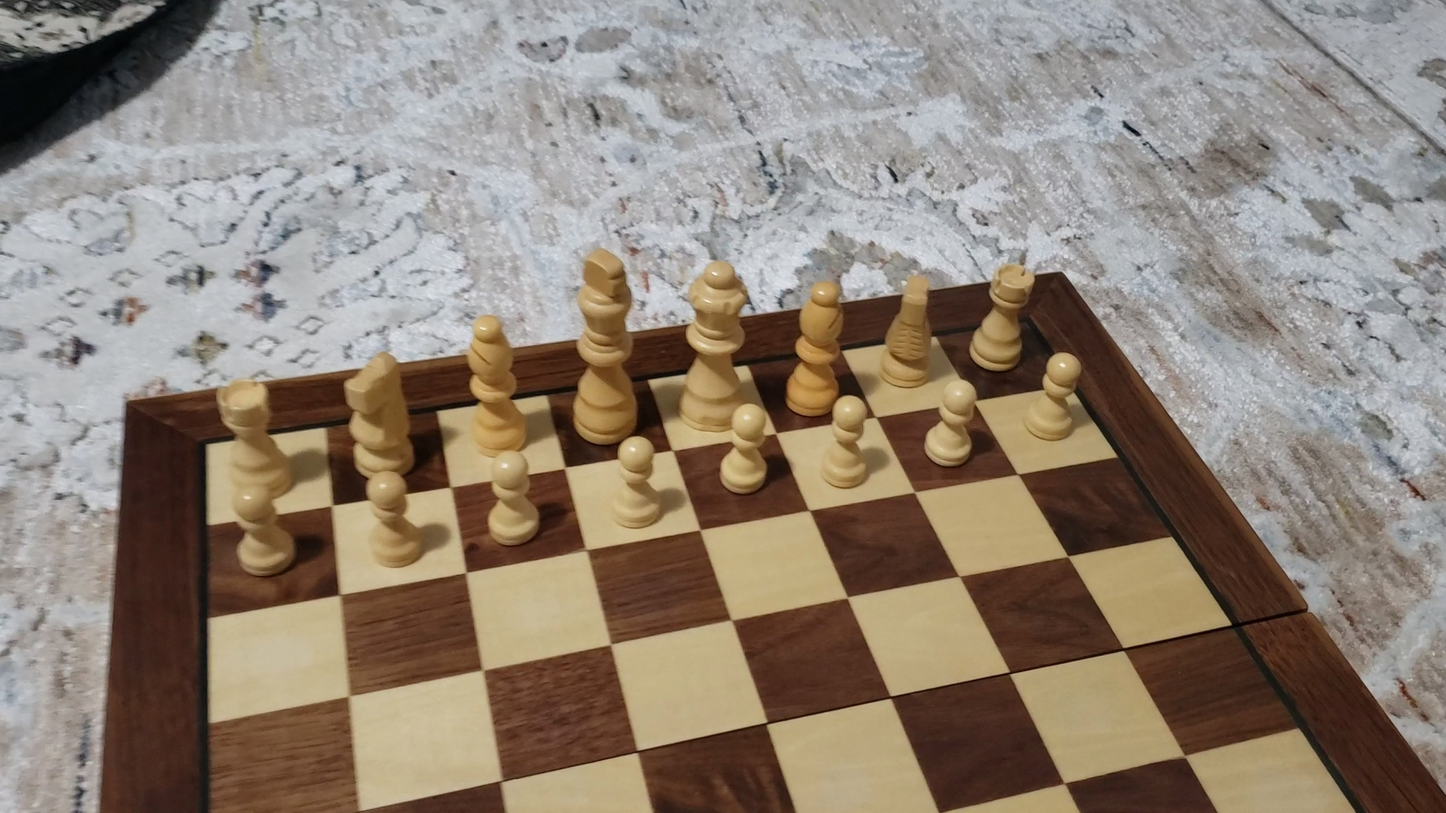white-bishop: (785, 268, 853, 417), (466, 312, 527, 456)
white-king: (573, 249, 637, 442)
white-knight: (344, 351, 414, 480), (877, 266, 944, 389)
white-pawn: (219, 469, 304, 586), (476, 448, 552, 552), (357, 470, 432, 571), (914, 379, 983, 477), (604, 436, 670, 536), (711, 403, 777, 503), (813, 395, 875, 497), (1021, 351, 1084, 449)
white-queen: (679, 258, 748, 430)
white-rook: (217, 374, 291, 502), (970, 261, 1036, 373)
